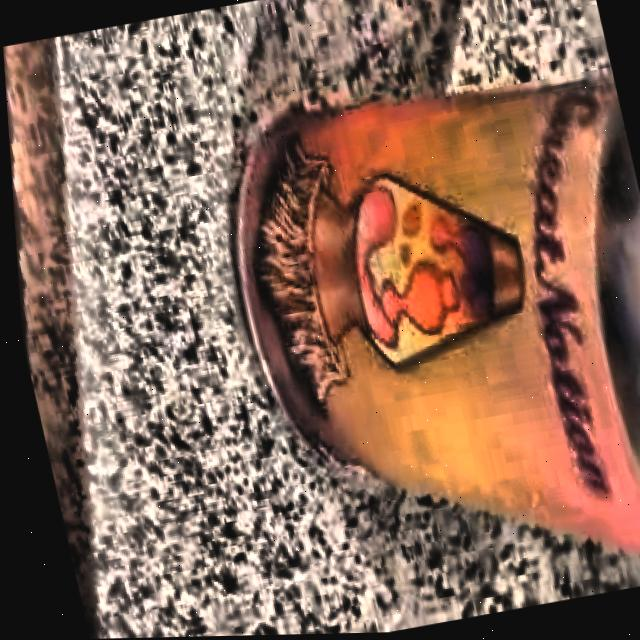metal: (179, 28, 640, 637)
